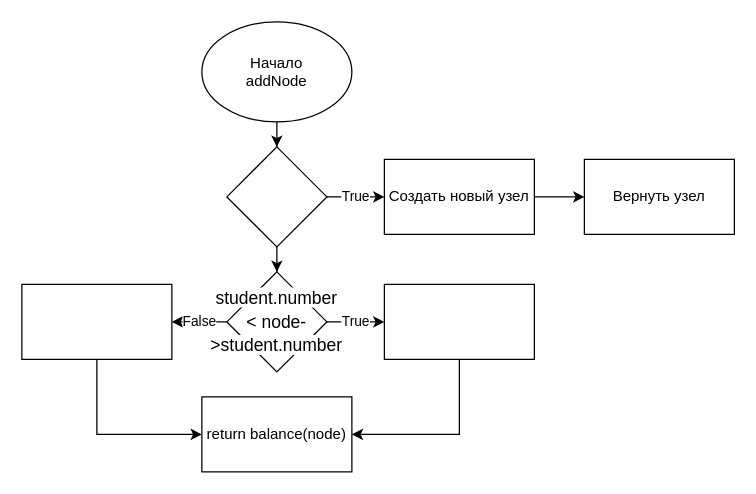
The diagram is 756 pixels wide and 494 high, and some of its shapes have lost their labels. The centre of each missing label's shape, as x and y in pixels:
"node->left = addNode(node->left, student)" goes at point (458, 321).
"node->right = addNode(node->right, student)" goes at point (96, 321).
"Узла не существует" goes at point (276, 196).
